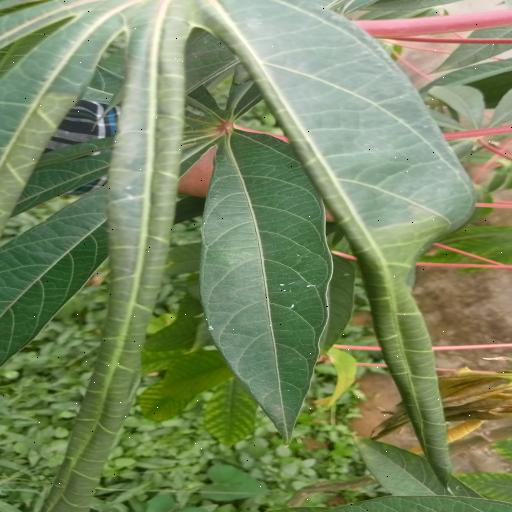Cassava_Bacterial_Disease: (12, 2, 476, 500)
